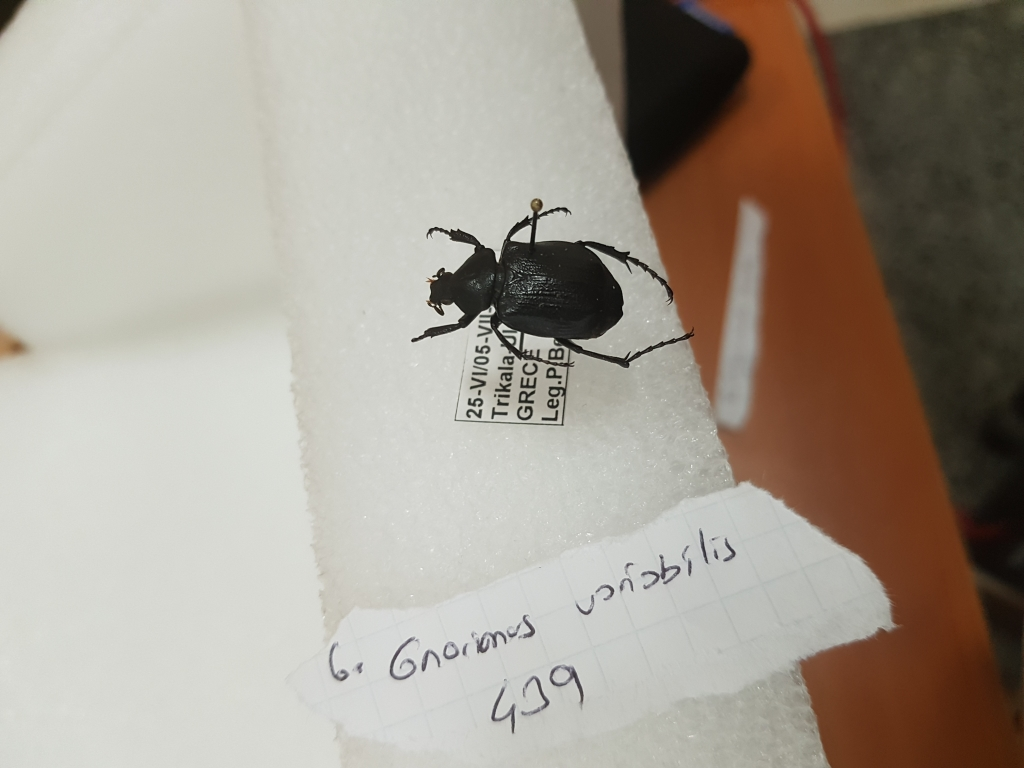Gnorimus_variabilis: (402, 195, 703, 372)
